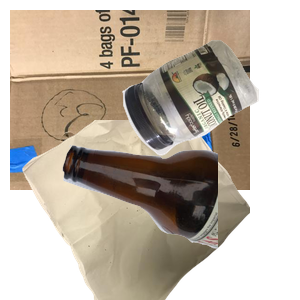cardboard: (10, 10, 250, 190)
glass: (60, 142, 300, 300)
plastic: (120, 37, 300, 185)
trash: (20, 120, 260, 300)
